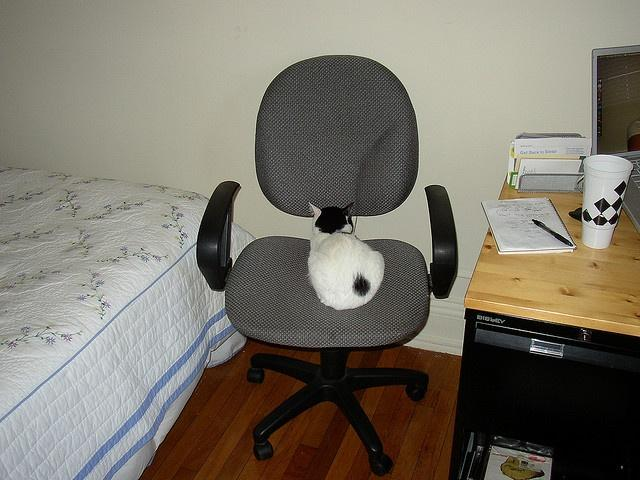Kursi: (195, 54, 458, 475)
